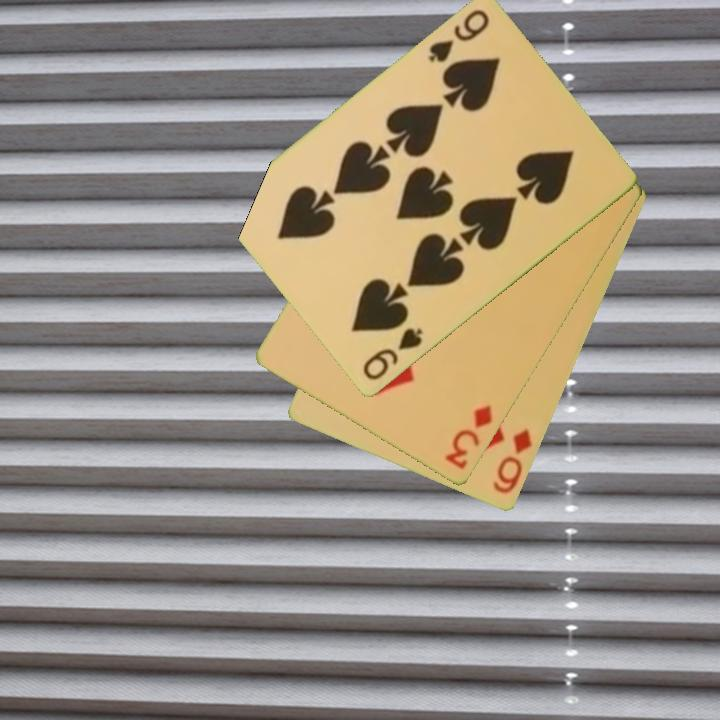3d: (441, 402, 496, 474)
6d: (489, 425, 535, 498)
9s: (424, 6, 492, 66), (359, 324, 426, 384)
